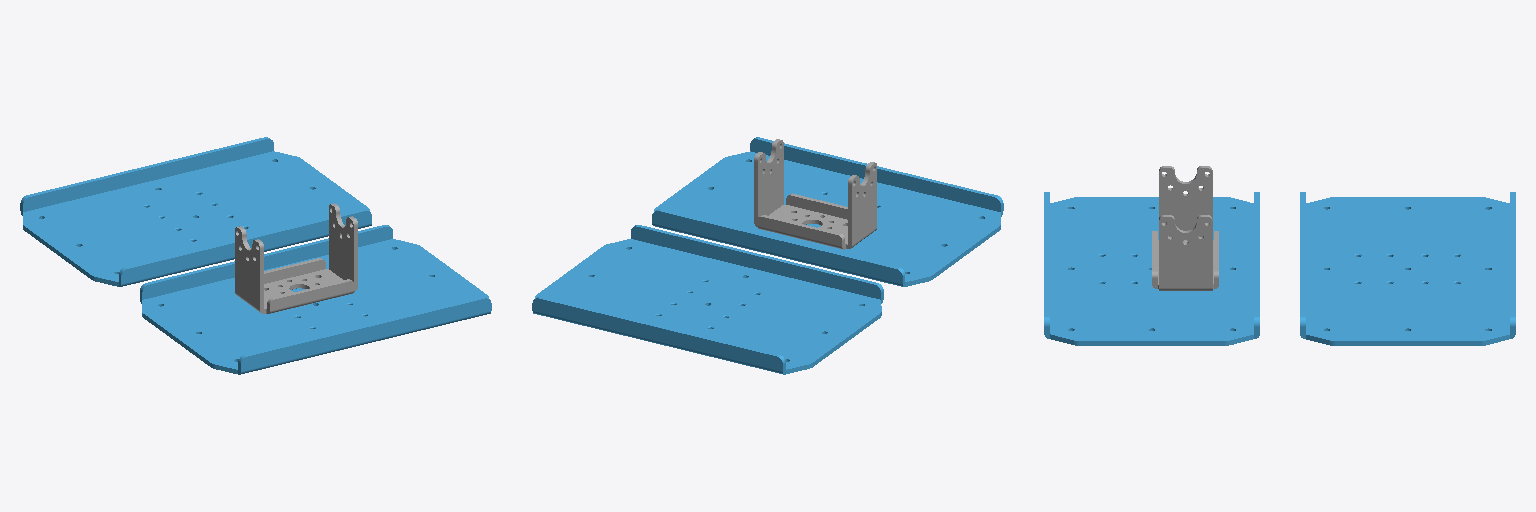
robot.urdf — robotis_op3:
<robot name="robotis_op3">
<!--
  <link name="world">
  </link>

  <joint name="world_fixed" type="fixed">
    <origin xyz="0 0 0" rpy="0 0 0"/>
    <parent link="world"/>
    <child link="body_link"/>
  </joint>
-->
  <!-- body link -->
  <link name="body_link">
    <visual>
      <origin xyz="0 0 0" rpy="0 0 0" />
      <geometry>
        <mesh filename="package://robotis_description/stl/base.stl"  scale="0.001 0.001 0.001"/>
      </geometry>
    </visual>
    <collision>
      <origin xyz="0 0 0" rpy="0 0 0" />
      <geometry>
        <mesh filename="package://robotis_description/stl/base.stl"  scale="0.001 0.001 0.001"/>
      </geometry>
    </collision>
    <inertial>
      <origin xyz="-0.01638 0.00007 0.04972" />
      <mass value="0.72235"/>
      <inertia ixx="0.00142735" ixy="-0.00000474" ixz="0.00004289"
               iyy="0.00103312" iyz="-0.00000098"
               izz="0.00150436" />
    </inertial>
  </link>

  <!-- imu joint -->
  <joint name="imu" type="fixed">
    <parent link="body_link"/>
    <child link="imu_link"/>
    <origin xyz="0.0 0.0 0.0" rpy="0 0 0" />
  </joint>

  <!-- imu link -->
  <link name="imu_link">
  </link>

  <!-- left hip yaw joint -->
  <joint name="l_hip_yaw" type="revolute">
    <parent link="body_link"/>
    <child link="l_hip_yaw_link"/>
    <origin xyz="0.0 0.035 0.0" rpy="0 0 0" />
    <axis xyz="0 0 -1" />
    <limit effort="1000" velocity="100" upper="2.199" lower="-2.199" />
    <dynamics damping="0.1" friction="0.0" />
  </joint>

  <!-- left hip yaw link -->
  <link name="l_hip_yaw_link">
    <visual>
      <origin xyz="0 0 0" rpy="0 0 0" />
      <geometry>
        <mesh filename="package://robotis_description/stl/ll1.stl"  scale="0.001 0.001 0.001"/>
      </geometry>
    </visual>
    <collision>
      <origin xyz="0 0 0" rpy="0 0 0" />
      <geometry>
        <mesh filename="package://robotis_description/stl/ll1.stl"  scale="0.001 0.001 0.001"/>
      </geometry>
    </collision>
    <inertial>
      <origin xyz="-0.00157 0.00000 -0.00774" />
      <mass value="0.01181"/>
      <inertia ixx="0.00000151" ixy="0.0" ixz="0.00000001"
               iyy="0.00000430" iyz="0.0"
               izz="0.00000412" />
    </inertial>
  </link>

  <!-- left hip roll joint -->
  <joint name="l_hip_roll" type="revolute">
    <parent link="l_hip_yaw_link"/>
    <child link="l_hip_roll_link"/>
    <origin xyz="-0.024 0.0 -0.0285" rpy="0 0 0" />
    <axis xyz="-1 0 0" />
    <limit effort="1000" velocity="100" upper="2.199" lower="-2.199" />
    <dynamics damping="0.1" friction="0.0" />
  </joint>

  <!-- left hip roll link -->
  <link name="l_hip_roll_link">
    <visual>
      <origin xyz="0 0 0" rpy="0 0 0" />
      <geometry>
        <mesh filename="package://robotis_description/stl/ll2.stl"  scale="0.001 0.001 0.001"/>
      </geometry>
    </visual>
    <collision>
      <origin xyz="0 0 0" rpy="0 0 0" />
      <geometry>
        <mesh filename="package://robotis_description/stl/ll2.stl"  scale="0.001 0.001 0.001"/>
      </geometry>
    </collision>
    <inertial>
      <origin xyz="0.00388 0.00028 -0.01214" />
      <mass value="0.17886"/>
      <inertia ixx="0.00004661" ixy="-0.00000101" ixz="-0.00000131"
               iyy="0.00012523" iyz="-0.00000006"
               izz="0.00010857" />
    </inertial>
  </link>

  <!-- left hip pitch joint -->
  <joint name="l_hip_pitch" type="revolute">
    <parent link="l_hip_roll_link"/>
    <child link="l_hip_pitch_link"/>
    <origin xyz="0.0241 0.019 0.0" rpy="0 0 0" />
    <axis xyz="0 1 0" />
    <limit effort="1000" velocity="100" upper="2.199" lower="-2.199" />
    <dynamics damping="0.1" friction="0.0" />
  </joint>

  <!-- left hip pitch link -->
  <link name="l_hip_pitch_link">
    <visual>
      <origin xyz="0 0 0" rpy="0 0 0" />
      <geometry>
        <mesh filename="package://robotis_description/stl/ll3.stl"  scale="0.001 0.001 0.001"/>
      </geometry>
    </visual>
    <collision>
      <origin xyz="0 0 0" rpy="0 0 0" />
      <geometry>
        <mesh filename="package://robotis_description/stl/ll3.stl"  scale="0.001 0.001 0.001"/>
      </geometry>
    </collision>
    <inertial>
      <origin xyz="0.00059 -0.01901 -0.08408" />
      <mass value="0.11543"/>
      <inertia ixx="0.00010499" ixy="-0.00000001" ixz="-0.00000071"
               iyy="0.00009613" iyz="0.00000353"
               izz="0.00002493" />
      </inertial>
  </link>

  <!-- left knee joint -->
  <joint name="l_knee" type="revolute">
    <parent link="l_hip_pitch_link"/>
    <child link="l_knee_link"/>
    <origin xyz="0.0 0.0 -0.11015" rpy="0 0 0" />
    <axis xyz="0 1 0" />
    <limit effort="1000" velocity="100" upper="2.199" lower="-2.199" />
    <dynamics damping="0.1" friction="0.0" />
  </joint>

  <!-- left knee link -->
  <link name="l_knee_link">
    <visual>
      <origin xyz="0 0 0" rpy="0 0 0" />
      <geometry>
        <mesh filename="package://robotis_description/stl/ll4.stl"  scale="0.001 0.001 0.001"/>
      </geometry>
    </visual>
    <collision>
      <origin xyz="0 0 0" rpy="0 0 0" />
      <geometry>
        <mesh filename="package://robotis_description/stl/ll4.stl"  scale="0.001 0.001 0.001"/>
      </geometry>
    </collision>
    <inertial>
      <origin xyz="0.00000 -0.02151 -0.05500" />
      <mass value="0.04015"/>
      <inertia ixx="0.00003715" ixy="0.0" ixz="0.0"
               iyy="0.00002751" iyz="0.0"
               izz="0.00001511" />
    </inertial>
  </link>

  <!-- left ankle pitch link -->
  <joint name="l_ank_pitch" type="revolute">
    <parent link="l_knee_link"/>
    <child link="l_ank_pitch_link"/>
    <origin xyz="0 0 -0.110" rpy="0 0 0" />
    <axis xyz="0 -1 0" />
    <limit effort="1000" velocity="100" upper="2.199" lower="-2.199" />
    <dynamics damping="0.1" friction="0.0" />
  </joint>

  <!-- left ankle pitch link -->
  <link name="l_ank_pitch_link">
    <visual>
      <origin xyz="0 0 0" rpy="0 0 0" />
      <geometry>
        <mesh filename="package://robotis_description/stl/ll5.stl"  scale="0.001 0.001 0.001"/>
      </geometry>
    </visual>
    <collision>
      <origin xyz="0 0 0" rpy="0 0 0" />
      <geometry>
        <mesh filename="package://robotis_description/stl/ll5.stl"  scale="0.001 0.001 0.001"/>
      </geometry>
    </collision>
    <inertial>
      <origin xyz="-0.02022 -0.01872 0.01214" />
      <mass value="0.17886"/>
      <inertia ixx="0.00004661" ixy="-0.00000101" ixz="0.00000131"
               iyy="0.00012523" iyz="0.00000006"
               izz="0.00010857" />
    </inertial>
  </link>

  <!-- left ankle roll link -->
  <joint name="l_ank_roll" type="revolute">
    <parent link="l_ank_pitch_link"/>
    <child link="l_ank_roll_link"/>
    <origin xyz="-0.0241 -0.019 0" rpy="0 0 0" />
    <axis xyz="1 0 0" />
    <limit effort="1000" velocity="100" upper="2.199" lower="-2.199" />
    <dynamics damping="0.1" friction="0.0" />
  </joint>

  <!-- left ankle roll link -->
  <link name="l_ank_roll_link">
    <visual>
      <origin xyz="0 0 0" rpy="0 0 0" />
      <geometry>
        <mesh filename="package://robotis_description/stl/ll6.stl"  scale="0.001 0.001 0.001"/>
      </geometry>
    </visual>
    <collision>
      <origin xyz="0 0 0" rpy="0 0 0" />
      <geometry>
        <mesh filename="package://robotis_description/stl/ll6.stl"  scale="0.001 0.001 0.001"/>
      </geometry>
    </collision>
    <inertial>
      <origin xyz="0.02243 0.0 -0.02076" />
      <mass value="0.01181"/>
      <inertia ixx="0.00000151" ixy="0.0" ixz="-0.00000001"
               iyy="0.0000043" iyz="0.0"
               izz="0.00000412" />
    </inertial>
    <!--
    <inertial>
      <origin xyz="0.02373 0.01037 -0.02760" />
      <mass value="0.06934"/>
      <inertia ixx="0.00004034" ixy="-0.00000019" ixz="0.00000012"
               iyy="0.00007874" iyz="0.00000101"
               izz="0.00011579" />
    </inertial>
    -->
  </link>

  <!-- left ft sensor joint -->
  <joint name="l_leg_ft" type="revolute">
    <parent link="l_ank_roll_link"/>
    <child link="l_leg_ft_link"/>
    <origin xyz="0.0241 0.0 -0.0285" rpy="0 0 0" />
    <limit velocity="6.5" effort="1000" lower="0" upper="0" />
  </joint>

  <!-- left ft sensor link -->
  <link name="l_leg_ft_link"/>

  <joint name="l_leg_ft_fixed" type="fixed">
    <parent link="l_leg_ft_link"/>
    <child link="l_foot_link"/>
  </joint>

  <link name="l_foot_link">
    <visual>
      <geometry>
        <mesh filename="package://robotis_description/stl/ll6-2.stl"  scale="0.001 0.001 0.001"/>
      </geometry>
    </visual>
    <collision>
      <geometry>
        <mesh filename="package://robotis_description/stl/ll6-2.stl"  scale="0.001 0.001 0.001"/>
      </geometry>
    </collision>
    <inertial>
      <origin xyz="0.0 0.01250 -0.00051" />
      <mass value="0.05753"/>
      <inertia ixx="0.00003664" ixy="0.0" ixz="0.0"
               iyy="0.00007375" iyz="0.0"
               izz="0.00011012" />
    </inertial>
  </link>

  <!-- right hip yaw joint -->
  <joint name="r_hip_yaw" type="revolute">
    <parent link="body_link"/>
    <child link="r_hip_yaw_link"/>
    <origin xyz="0.0 -0.035 0.0" rpy="0 0 0" />
    <axis xyz="0 0 -1" />
    <limit effort="1000" velocity="100" upper="2.199" lower="-2.199" />
    <dynamics damping="0.1" friction="0.0" />
  </joint>

  <!-- right hip yaw link -->
  <link name="r_hip_yaw_link">
    <visual>
      <origin xyz="0 0 0" rpy="0 0 0" />
      <geometry>
        <mesh filename="package://robotis_description/stl/rl1.stl"  scale="0.001 0.001 0.001"/>
      </geometry>
    </visual>
    <collision>
      <origin xyz="0 0 0" rpy="0 0 0" />
      <geometry>
        <mesh filename="package://robotis_description/stl/rl1.stl"  scale="0.001 0.001 0.001"/>
      </geometry>
    </collision>
    <inertial>
      <origin xyz="-0.00157 0.00000 -0.00774" />
      <mass value="0.01181"/>
      <inertia ixx="0.00000151" ixy="0.0" ixz="0.00000001"
               iyy="0.00000430" iyz="0.0"
               izz="0.00000412" />
    </inertial>
  </link>

  <!-- right hip roll joint -->
  <joint name="r_hip_roll" type="revolute">
    <parent link="r_hip_yaw_link"/>
    <child link="r_hip_roll_link"/>
    <origin xyz="-0.024 0.0 -0.0285" rpy="0 0 0" />
    <axis xyz="-1 0 0" />
    <limit effort="1000" velocity="100" upper="2.199" lower="-2.199" />
    <dynamics damping="0.1" friction="0.0" />
  </joint>

  <!-- right hip roll link -->
  <link name="r_hip_roll_link">
    <visual>
      <origin xyz="0 0 0" rpy="0 0 0" />
      <geometry>
        <mesh filename="package://robotis_description/stl/rl2.stl"  scale="0.001 0.001 0.001"/>
     </geometry>
    </visual>
    <collision>
      <origin xyz="0 0 0" rpy="0 0 0" />
      <geometry>
        <mesh filename="package://robotis_description/stl/rl2.stl"  scale="0.001 0.001 0.001"/>
      </geometry>
    </collision>
    <inertial>
      <origin xyz="0.00388 -0.00028 -0.01214" />
      <mass value="0.17886"/>
      <inertia ixx="0.00004661" ixy="0.00000101" ixz="-0.00000131"
               iyy="0.00012523" iyz="0.00000006"
               izz="0.00010857" />
    </inertial>
  </link>

  <!-- right hip pitch joint -->
  <joint name="r_hip_pitch" type="revolute">
    <parent link="r_hip_roll_link"/>
    <child link="r_hip_pitch_link"/>
    <origin xyz="0.0241 -0.019 0.0" rpy="0 0 0" />
    <axis xyz="0 -1 0" />
    <limit effort="1000" velocity="100" upper="2.199" lower="-2.199" />
    <dynamics damping="0.1" friction="0.0" />
  </joint>

  <!-- right hip pitch link -->
  <link name="r_hip_pitch_link">
    <visual>
      <origin xyz="0 0 0" rpy="0 0 0" />
      <geometry>
        <mesh filename="package://robotis_description/stl/rl3.stl"  scale="0.001 0.001 0.001"/>
      </geometry>
    </visual>
    <collision>
      <origin xyz="0 0 0" rpy="0 0 0" />
      <geometry>
        <mesh filename="package://robotis_description/stl/rl3.stl"  scale="0.001 0.001 0.001"/>
      </geometry>
    </collision>
    <inertial>
      <origin xyz="0.00059 0.01901 -0.08408" />
      <mass value="0.11543"/>
      <inertia ixx="0.00010499" ixy="0.00000001" ixz="-0.00000071"
               iyy="0.00009613" iyz="-0.00000353"
               izz="0.00002493" />
      </inertial>
  </link>

  <!-- right knee joint -->
  <joint name="r_knee" type="revolute">
    <parent link="r_hip_pitch_link"/>
    <child link="r_knee_link"/>
    <origin xyz="0.0 0.0 -0.11015" rpy="0 0 0" />
    <axis xyz="0 -1 0" />
    <limit effort="1000" velocity="100" upper="2.199" lower="-2.199" />
    <dynamics damping="0.1" friction="0.0" />
  </joint>

  <!-- right knee link -->
  <link name="r_knee_link">
    <visual>
      <origin xyz="0 0 0" rpy="0 0 0" />
      <geometry>
        <mesh filename="package://robotis_description/stl/rl4.stl"  scale="0.001 0.001 0.001"/>
      </geometry>
    </visual>
    <collision>
      <origin xyz="0 0 0" rpy="0 0 0" />
      <geometry>
        <mesh filename="package://robotis_description/stl/rl4.stl"  scale="0.001 0.001 0.001"/>
      </geometry>
    </collision>
    <inertial>
      <origin xyz="0.00000 0.02151 -0.05500" />
      <mass value="0.04015"/>
      <inertia ixx="0.00003715" ixy="0.0" ixz="0.0"
               iyy="0.00002751" iyz="0.0"
               izz="0.00001511" />
    </inertial>
  </link>

  <!-- right ankle pitch joint -->
  <joint name="r_ank_pitch" type="revolute">
    <parent link="r_knee_link"/>
    <child link="r_ank_pitch_link"/>
    <origin xyz="0 0 -0.110" rpy="0 0 0" />
    <axis xyz="0 1 0" />
    <limit effort="1000" velocity="100" upper="2.199" lower="-2.199" />
    <dynamics damping="0.1" friction="0.0" />
  </joint>

  <!-- right ankle pitch link -->
  <link name="r_ank_pitch_link">
    <visual>
      <geometry>
        <mesh filename="package://robotis_description/stl/rl5.stl"  scale="0.001 0.001 0.001"/>
      </geometry>
    </visual>
    <collision>
      <geometry>
        <mesh filename="package://robotis_description/stl/rl5.stl"  scale="0.001 0.001 0.001"/>
      </geometry>
    </collision>
    <inertial>
      <origin xyz="-0.02022 0.01872 0.01214" />
      <mass value="0.17886"/>
      <inertia ixx="0.00004661" ixy="0.00000101" ixz="0.00000131"
               iyy="0.00012523" iyz="-0.00000006"
               izz="0.00010857" />
    </inertial>
  </link>

  <!-- right ankle roll link -->
  <joint name="r_ank_roll" type="revolute">
    <parent link="r_ank_pitch_link"/>
    <child link="r_ank_roll_link"/>
    <origin xyz="-0.0241 0.019 0" rpy="0 0 0" />
    <axis xyz="1 0 0" />
    <limit effort="1000" velocity="100" upper="2.199" lower="-2.199" />
    <dynamics damping="0.1" friction="0.0" />
  </joint>

  <!-- right ankle roll link -->
  <link name="r_ank_roll_link">
    <visual>
      <geometry>
        <mesh filename="package://robotis_description/stl/rl6-1.stl"  scale="0.001 0.001 0.001"/>
      </geometry>
    </visual>
    <collision>
      <geometry>
        <mesh filename="package://robotis_description/stl/rl6-1.stl"  scale="0.001 0.001 0.001"/>
      </geometry>
    </collision>
    <inertial>
      <origin xyz="0.02243 0.0 -0.02076" />
      <mass value="0.01181"/>
      <inertia ixx="0.00000151" ixy="0.0" ixz="-0.00000001"
               iyy="0.0000043" iyz="0.0"
               izz="0.00000412" />
    </inertial>
    <!--
    <inertial>
      <origin xyz="0.02373 -0.01037 -0.02760" />
      <mass value="0.06934"/>
      <inertia ixx="0.00004034" ixy="0.00000019" ixz="0.00000012"
               iyy="0.00007874" iyz="-0.00000101"
               izz="0.00011579" />
    </inertial>
    -->
  </link>

  <!-- right ft sensor joint -->
  <joint name="r_leg_ft" type="revolute">
    <parent link="r_ank_roll_link"/>
    <child link="r_leg_ft_link"/>
    <origin xyz="0.0241 0.0 -0.0285" rpy="0 0 0" />
    <limit velocity="6.5" effort="1000" lower="0" upper="0" />
  </joint>

  <!-- right ft sensor link -->
  <link name="r_leg_ft_link"/>

  <joint name="r_leg_ft_fixed" type="fixed">
    <parent link="r_leg_ft_link"/>
    <child link="r_foot_link"/>
  </joint>

  <link name="r_foot_link">
    <visual>
      <geometry>
        <mesh filename="package://robotis_description/stl/rl6-2.stl"  scale="0.001 0.001 0.001"/>
      </geometry>
    </visual>
    <collision>
      <geometry>
        <mesh filename="package://robotis_description/stl/rl6-2.stl"  scale="0.001 0.001 0.001"/>
      </geometry>
    </collision>
    <inertial>
      <origin xyz="0.0 -0.01250 -0.00051" />
      <mass value="0.05753"/>
      <inertia ixx="0.00003664" ixy="0.0" ixz="0.0"
               iyy="0.00007375" iyz="0.0"
               izz="0.00011012" />
    </inertial>
  </link>

</robot>

--- Render facts (derived) ---
Views: 3 orthographic renders of the robot side by side, from view 1: azimuth 30°, elevation 25°; view 2: azimuth 150°, elevation 25°; view 3: azimuth 270°, elevation 25°.
Model robotis_op3 with 18 links and 17 joints (14 revolute, 3 fixed), rooted at body_link, posed all joints at 0.
Links seen in each view (by area): view 1: l_foot_link, r_foot_link, r_ank_roll_link; view 2: l_foot_link, r_foot_link, r_ank_roll_link; view 3: l_foot_link, r_foot_link, r_ank_roll_link.
Boxes of the visible links, x1,y1,x2,y2 form: l_foot_link: [20, 137, 371, 286]; r_foot_link: [140, 225, 491, 374]; r_ank_roll_link: [235, 203, 357, 313]; l_foot_link: [532, 225, 883, 374]; r_foot_link: [652, 137, 1003, 286]; r_ank_roll_link: [754, 139, 876, 249]; l_foot_link: [1300, 192, 1515, 345]; r_foot_link: [1044, 192, 1259, 345]; r_ank_roll_link: [1152, 166, 1218, 290].
Size in the robot's own frame: 0.1271 by 0.175 by 0.033 metres.
3 mesh visuals loaded from 15 distinct referenced files (3 binary STL); not drawn: 12 (reference not matched to a file when rendering).